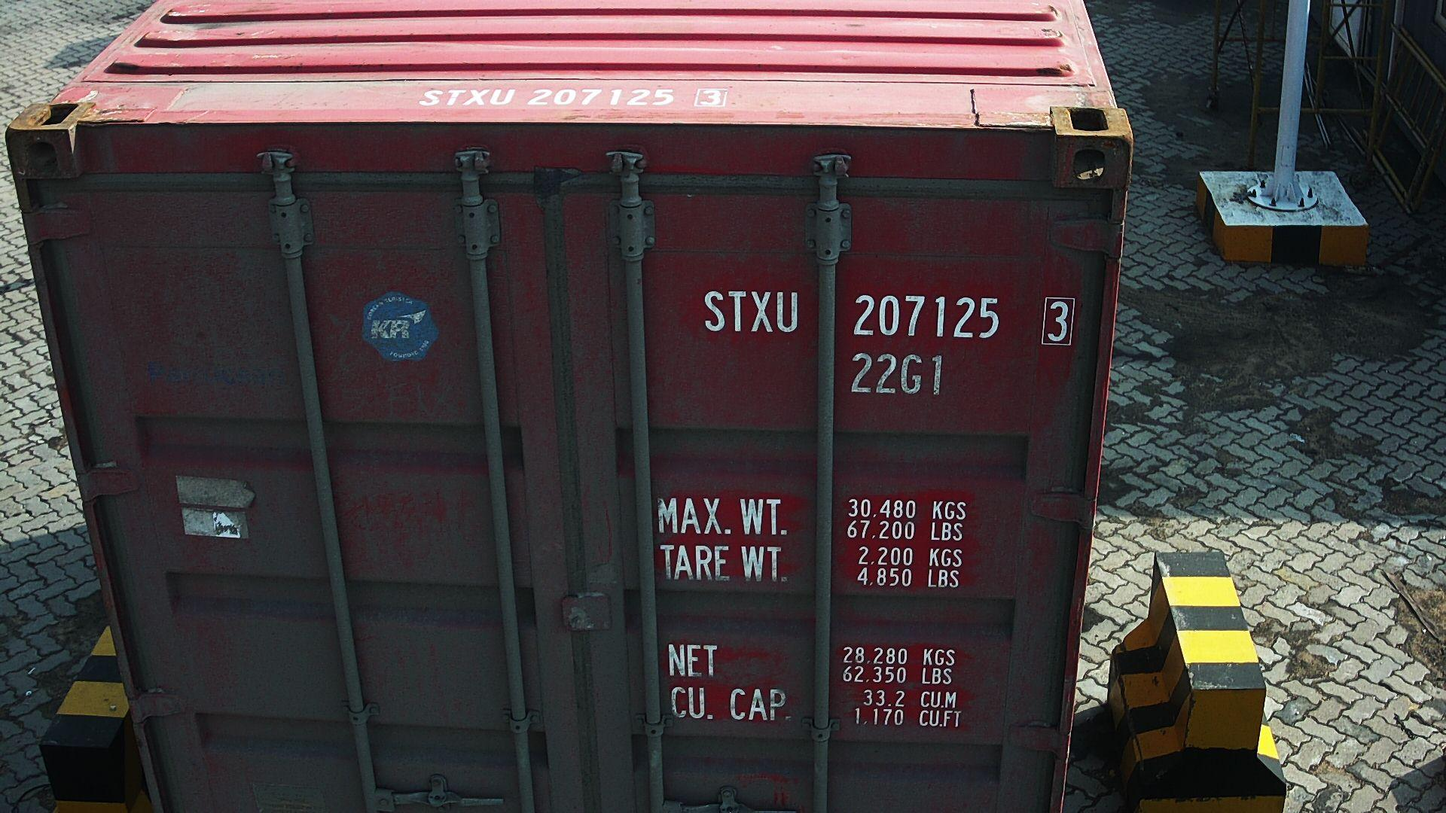container-numbers: (700, 288, 1083, 349), (413, 83, 737, 110), (847, 350, 948, 398)
